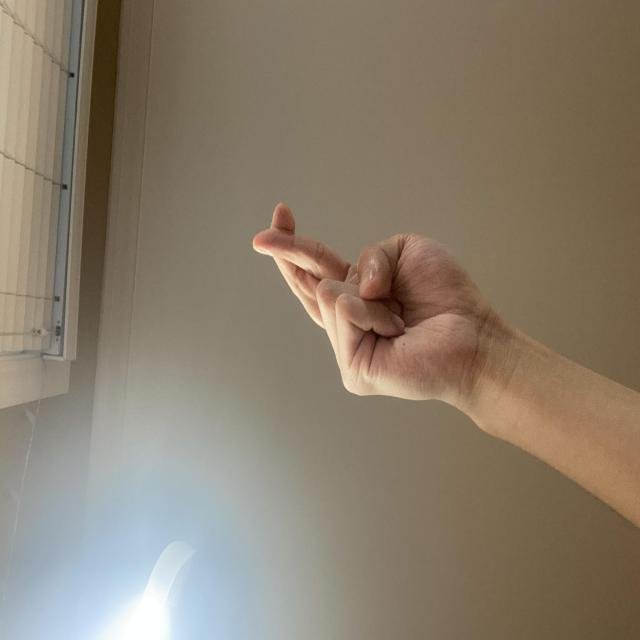O: (167, 327, 337, 640)
